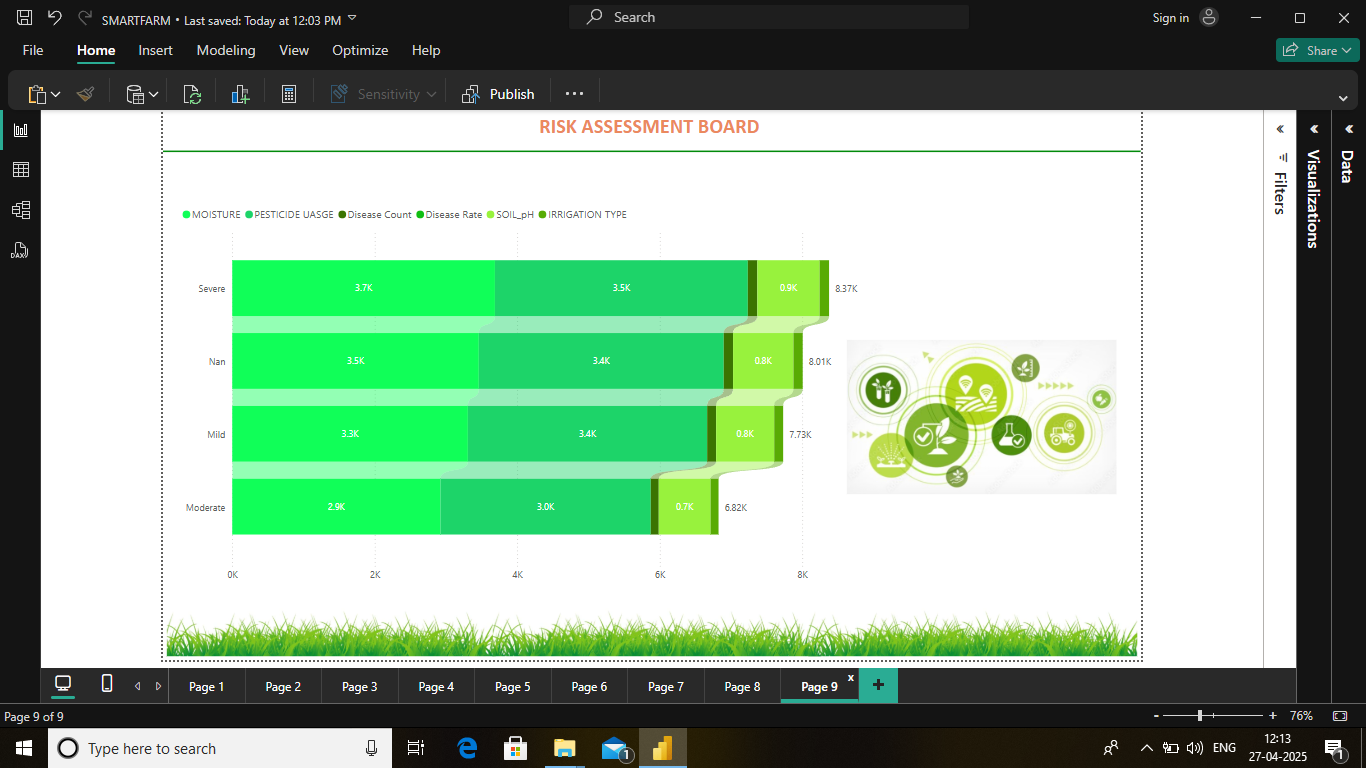

Layout of this report page (visuals, bound fields, positions):
{"tool":"powerbi","page":{"name":"Page 9","canvas":[1280,720],"ordinal":8},"visuals":[{"type":"textbox","box":[19.1,0,1234.3,51.4],"z":0},{"type":"shape","box":[0,26.4,1279.8,55.8],"z":1000},{"type":"image","box":[0,644.4,440.1,75.6],"z":1001},{"type":"image","box":[426.7,644.4,440.1,75.6],"z":1002},{"type":"image","box":[839.9,644.4,440.1,75.6],"z":1003},{"type":"barChart","fields":{"Y":["Sum(Smart_Farming_Crop_Yield_2024_CLEANED.soil_moisture_percent)","Sum(Smart_Farming_Crop_Yield_2024_CLEANED.pesticide_usage_ml)","Smart_Farming_Crop_Yield_2024_CLEANED.Disease Count","Smart_Farming_Crop_Yield_2024_CLEANED.Disease Rate","Sum(Smart_Farming_Crop_Yield_2024_CLEANED.soil_ph)","CountNonNull(Smart_Farming_Crop_Yield_2024_CLEANED.irrigation_type)"],"Category":["Smart_Farming_Crop_Yield_2024_CLEANED.crop_disease_status"]},"box":[19.1,116.1,902.2,509.9],"z":1004},{"type":"image","box":[890.4,292.4,362.9,220.4],"z":1005}]}

Visuals, with their boxes on the page's 1280x720 design canvas (x1, y1, x2, y2). These are canvas units, not pixel positions in the 1366x768 screenshot, which may show the page scaled, cropped or inside an application window:
textbox: x1=19, y1=0, x2=1253, y2=51
shape: x1=0, y1=26, x2=1280, y2=82
image: x1=0, y1=644, x2=440, y2=720
image: x1=427, y1=644, x2=867, y2=720
image: x1=840, y1=644, x2=1280, y2=720
barChart - Sum(Smart_Farming_Crop_Yield_2024_CLEANED.soil_moisture_percent) x Sum(Smart_Farming_Crop_Yield_2024_CLEANED.pesticide_usage_ml): x1=19, y1=116, x2=921, y2=626
image: x1=890, y1=292, x2=1253, y2=513
